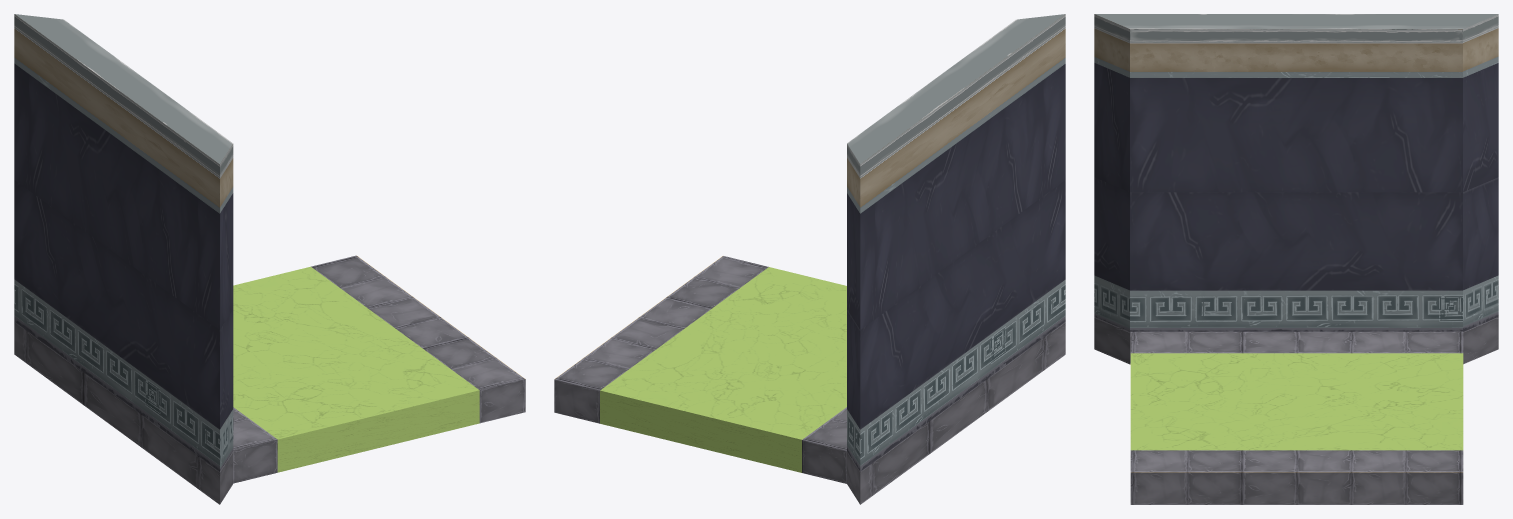
File: OLD1capricornwall.fbx
3 renders of one model, left to right at view 1: azimuth 30°, elevation 25°; view 2: azimuth 150°, elevation 25°; view 3: azimuth 270°, elevation 25°, orthographic.
Visible parts, largest first — view 1: Capricorn_Wall_Tile, Capricorn_Floor_Tile; view 2: Capricorn_Wall_Tile, Capricorn_Floor_Tile; view 3: Capricorn_Wall_Tile, Capricorn_Floor_Tile.
Boxes of the visible parts, x1,y1,x2,y2 form: Capricorn_Wall_Tile: [14, 14, 233, 504]; Capricorn_Floor_Tile: [233, 255, 525, 483]; Capricorn_Wall_Tile: [847, 14, 1065, 504]; Capricorn_Floor_Tile: [554, 256, 846, 483]; Capricorn_Wall_Tile: [1094, 14, 1498, 364]; Capricorn_Floor_Tile: [1130, 331, 1463, 504].
Size of the model in its own units: 597 by 600 by 656.
